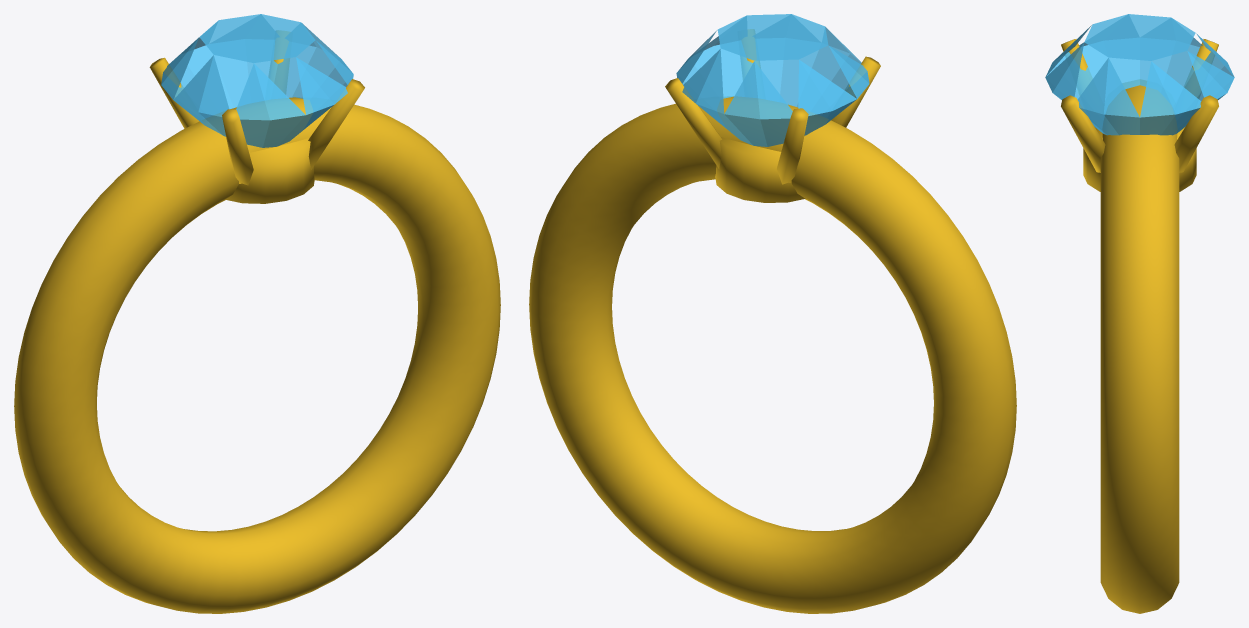
The model's file is items-ring.glb.
3 renders of one model, left to right at view 1: azimuth 30°, elevation 25°; view 2: azimuth 150°, elevation 25°; view 3: azimuth 270°, elevation 25°, orthographic. The views are drawn at different scales.
Visible parts, largest first — view 1: Ring__Band, Ring__Gem, Ring__Prongs; view 2: Ring__Band, Ring__Gem, Ring__Prongs; view 3: Ring__Band, Ring__Gem, Ring__Prongs.
Boxes of the visible parts, x1,y1,x2,y2 form: Ring__Band: (14, 97, 500, 613); Ring__Gem: (161, 14, 353, 147); Ring__Prongs: (149, 33, 364, 203); Ring__Band: (529, 96, 1016, 613); Ring__Gem: (676, 14, 869, 146); Ring__Prongs: (665, 29, 880, 202); Ring__Band: (1100, 81, 1179, 613); Ring__Gem: (1045, 14, 1234, 135); Ring__Prongs: (1061, 39, 1218, 191).
Bounding box in the file's own units: 4.24 × 4.82 × 1.5.
